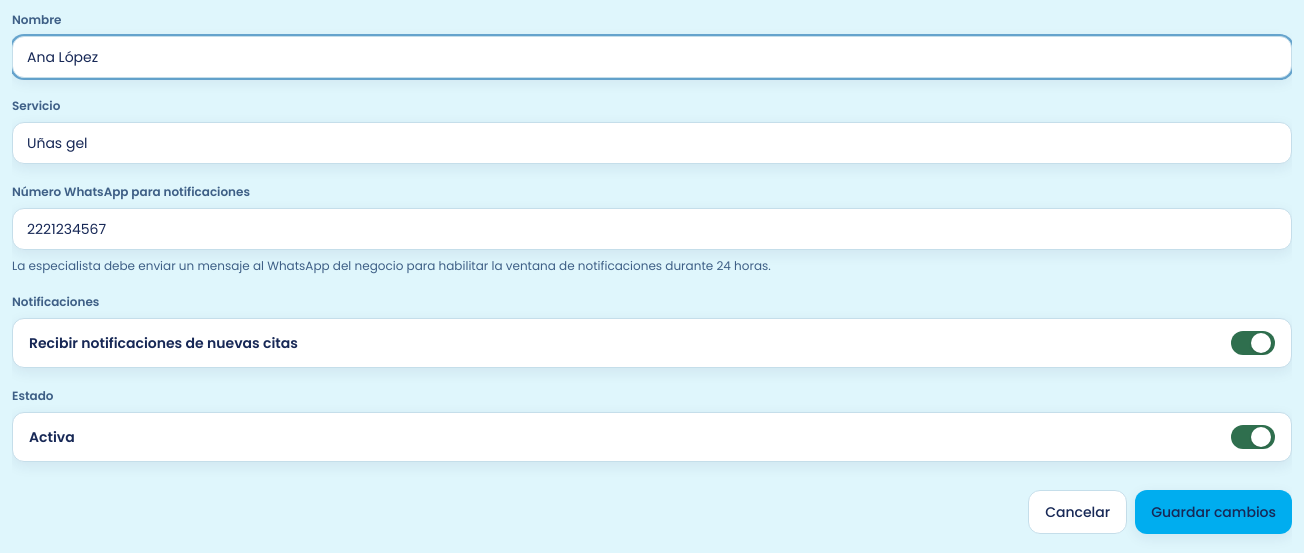
Test: DoctorForm WhatsApp fields › clearing phone turns off and disables the notifications toggle
The width and height of the screenshot is (1304, 553).
Clear the field labelled "Número WhatsApp para notificaciones": point(652, 229) 12,208 -> 1292,250
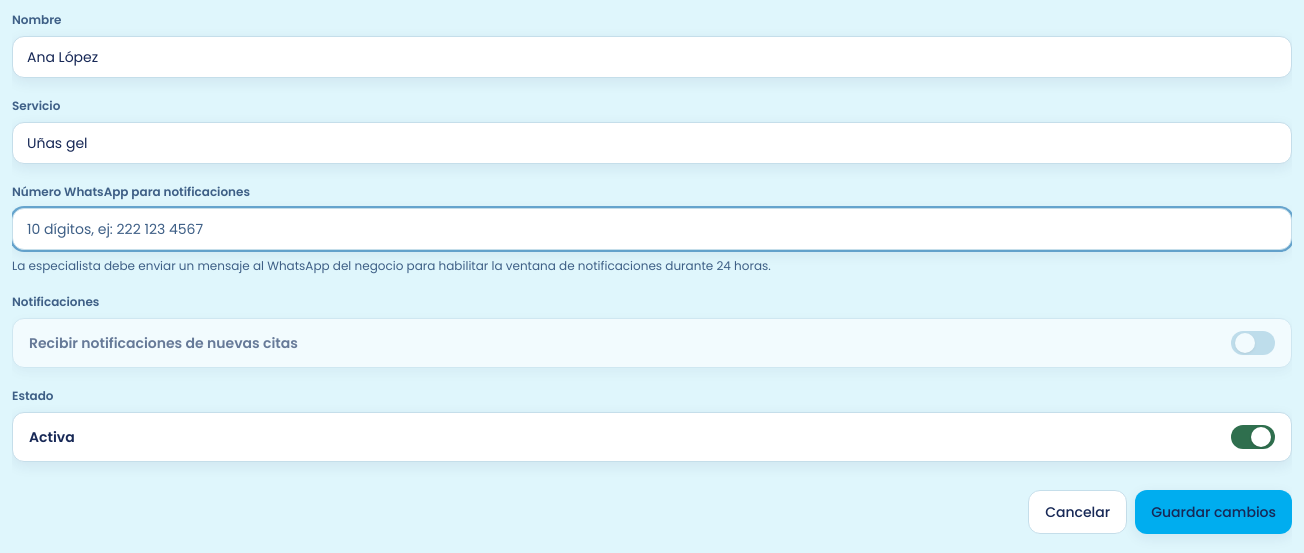
Expected: the button "Recibir notificaciones de nuevas citas" is disabled, 12,318 -> 1292,368
